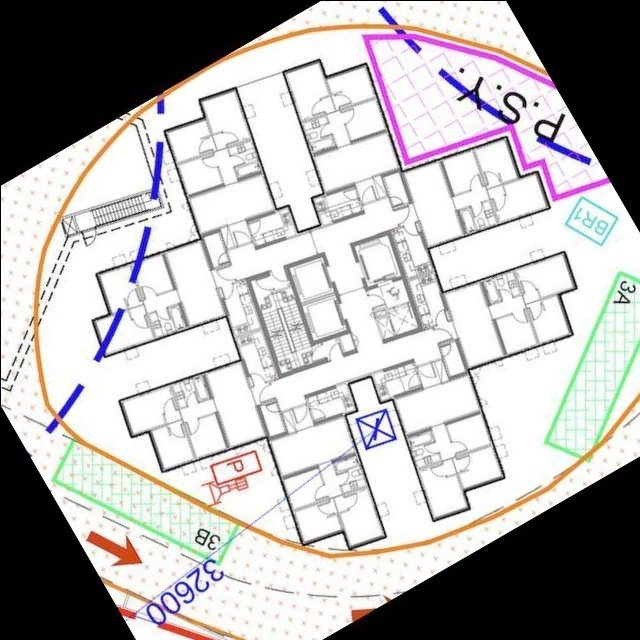tower_crane: (355, 409, 399, 452)
